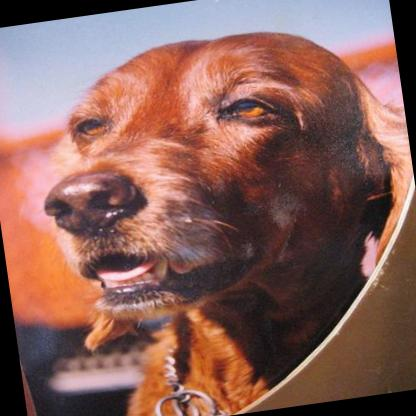Irish_setter: (23, 11, 416, 416)
